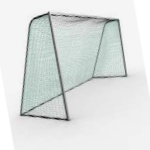goals: (18, 10, 129, 122)
